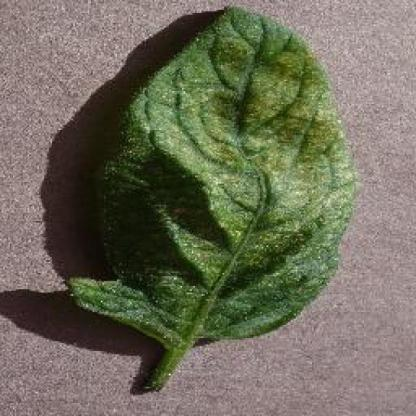Tomato_Spider_Mites: (66, 8, 352, 335)
